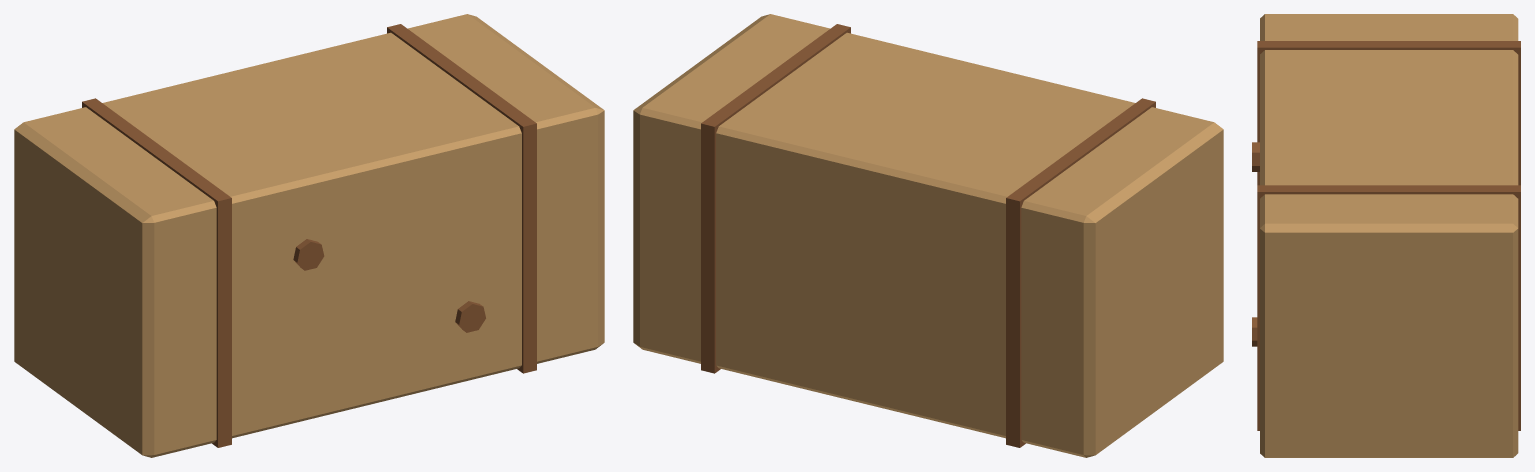
Rendered from wood-block-lod1.glb.
3 views of the same model, side by side, from view 1: azimuth 30°, elevation 25°; view 2: azimuth 150°, elevation 25°; view 3: azimuth 270°, elevation 25° (orthographic). The views are drawn at different scales.
Visible parts, largest first — view 1: wood-block; view 2: wood-block; view 3: wood-block.
Part boxes in pixels (left/top/right/bottom): wood-block: left=14, top=14, right=604, bottom=457; wood-block: left=633, top=14, right=1223, bottom=457; wood-block: left=1252, top=14, right=1520, bottom=457.
Size of the model in its own units: 1 by 0.51 by 0.52.
